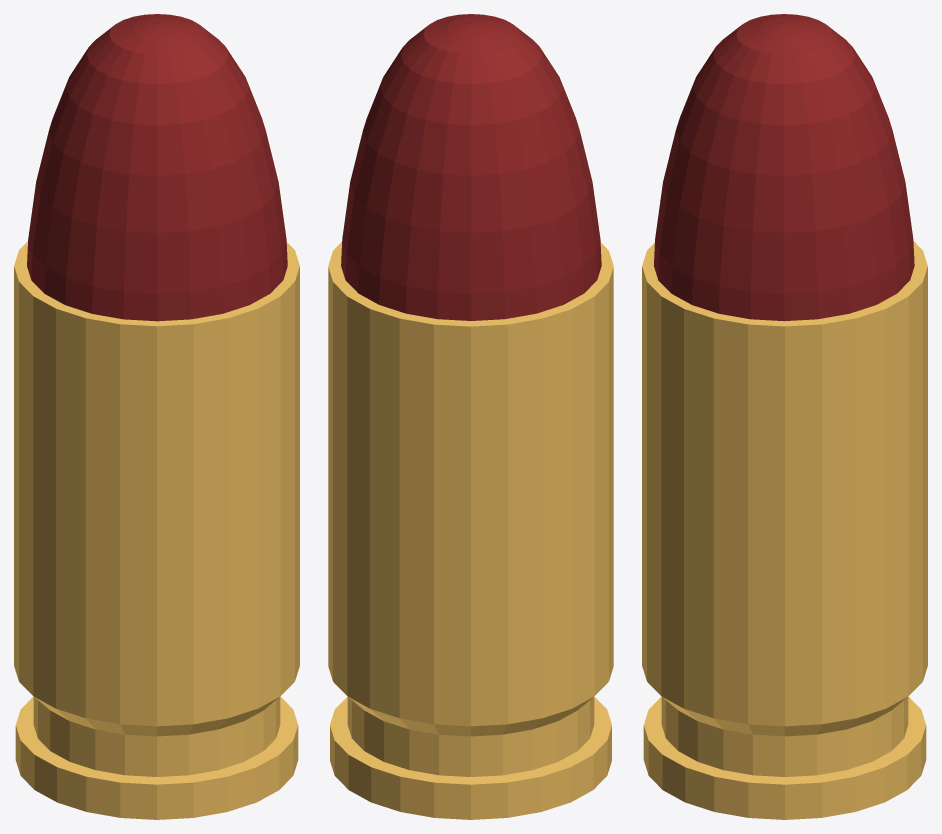
File: Bullet.gltf
3 renders of one model, left to right at view 1: azimuth 30°, elevation 25°; view 2: azimuth 150°, elevation 25°; view 3: azimuth 270°, elevation 25°, orthographic.
Visible parts, largest first — view 1: Cylinder, Cylinder.001; view 2: Cylinder, Cylinder.001; view 3: Cylinder, Cylinder.001.
Part boxes in pixels (left/top/right/bottom): Cylinder: left=14, top=241, right=299, bottom=819; Cylinder.001: left=27, top=14, right=287, bottom=321; Cylinder: left=328, top=242, right=613, bottom=819; Cylinder.001: left=341, top=14, right=601, bottom=320; Cylinder: left=642, top=241, right=927, bottom=819; Cylinder.001: left=654, top=14, right=914, bottom=321.
Size of the model in its own units: 0.8269 by 2.35 by 0.8269.
